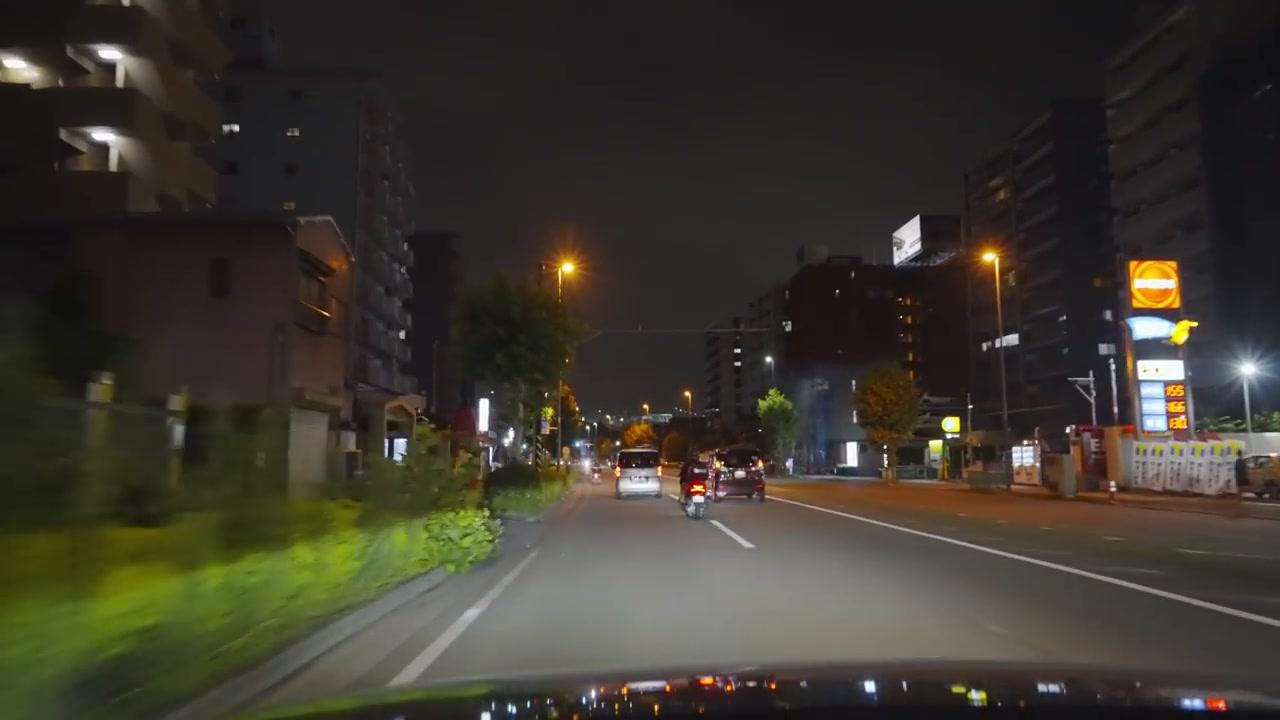car: (711, 448, 766, 501), (614, 446, 662, 499), (1237, 454, 1280, 501)
motorcycle: (683, 482, 707, 520)
person: (679, 457, 710, 509)
truck: (614, 445, 662, 499)
